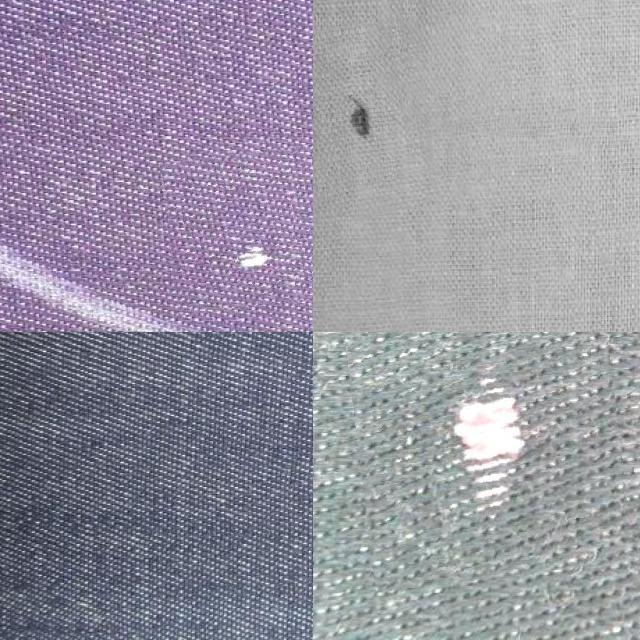Hole: (313, 21, 433, 220)
Thread_other: (350, 332, 626, 585), (162, 149, 313, 312)
